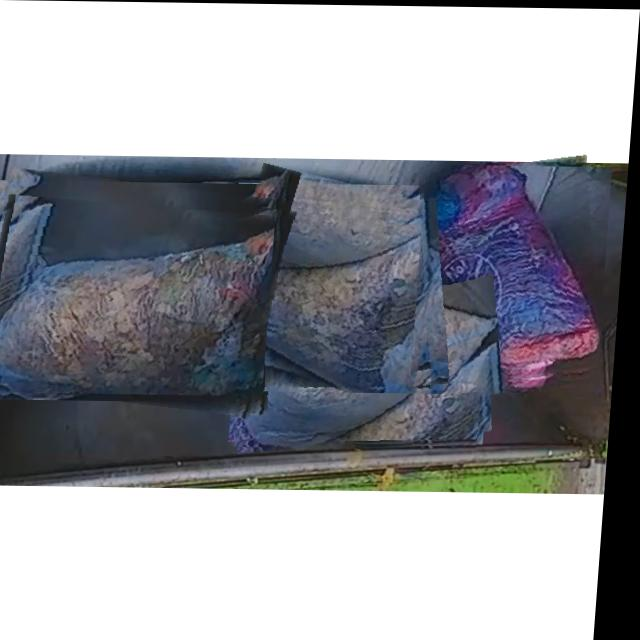other_trashbag: (0, 221, 277, 394), (244, 277, 491, 446), (425, 165, 606, 378), (242, 223, 458, 391)
